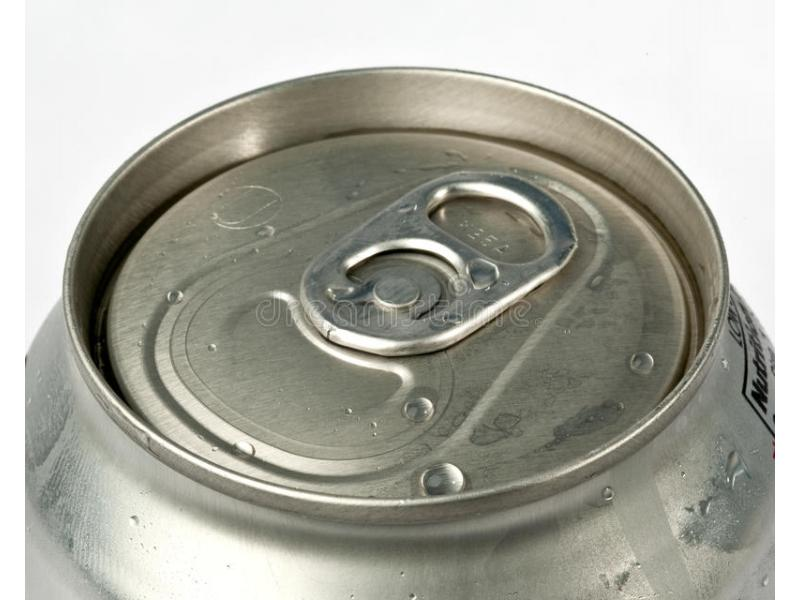can: (27, 56, 776, 600)
